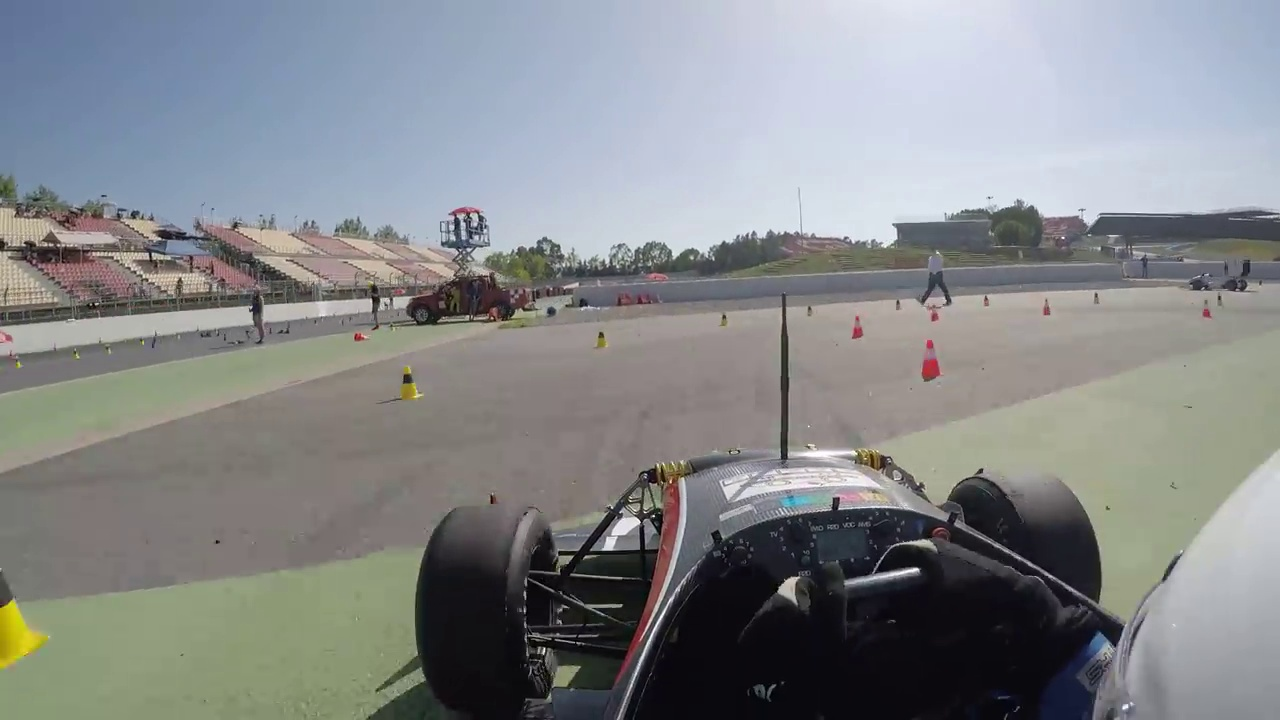Cone: (917, 338, 944, 381), (397, 364, 423, 402)
